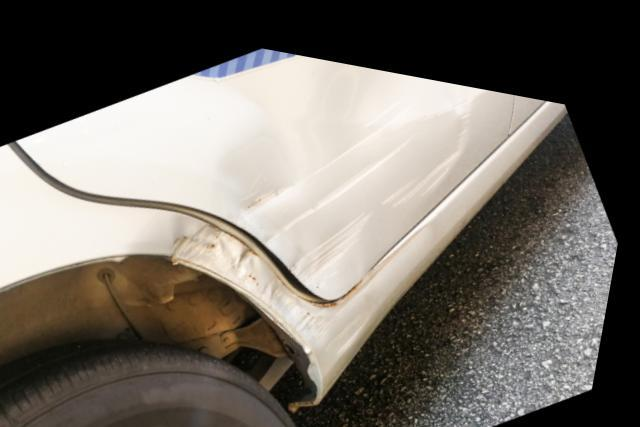dent: (222, 48, 469, 265), (179, 208, 342, 331)
